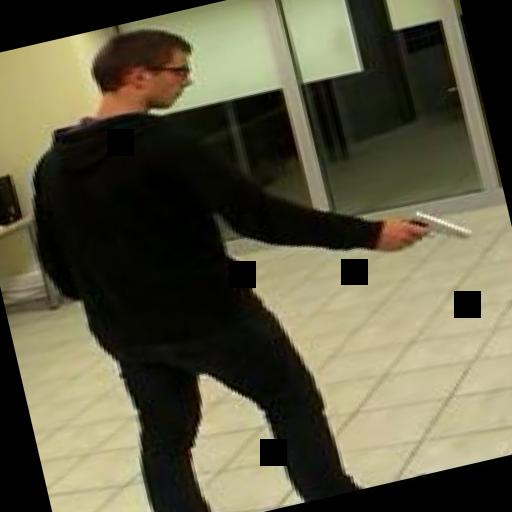Handgun: (378, 194, 473, 258)
